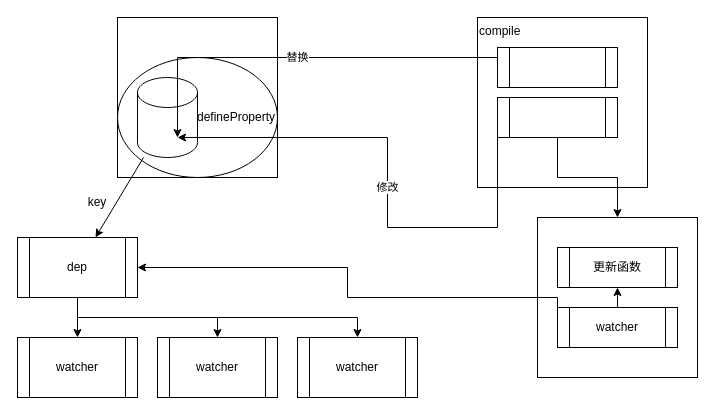
The diagram is 715 pixels wide and 415 high, and some of its shapes have lost their labels. The box of each missing label's shape, as (x1, y1, x2, y2) in pixels:
data: (136, 76, 198, 158)
html: (496, 46, 618, 88)
observer: (116, 16, 278, 178)
v-model -》 input: (496, 96, 618, 138)
